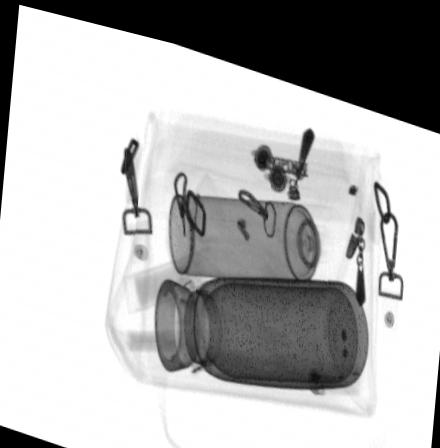Lighter: (121, 239, 207, 307)
Sprayer: (169, 182, 350, 269)
